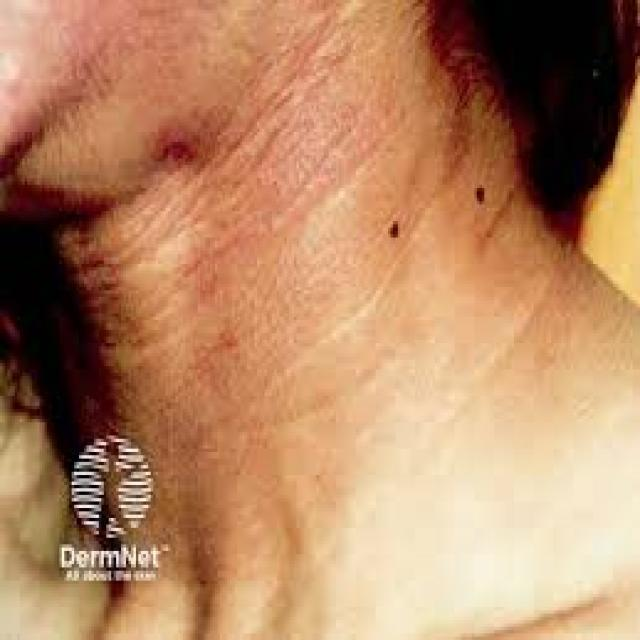Eczema: (85, 0, 378, 495)
